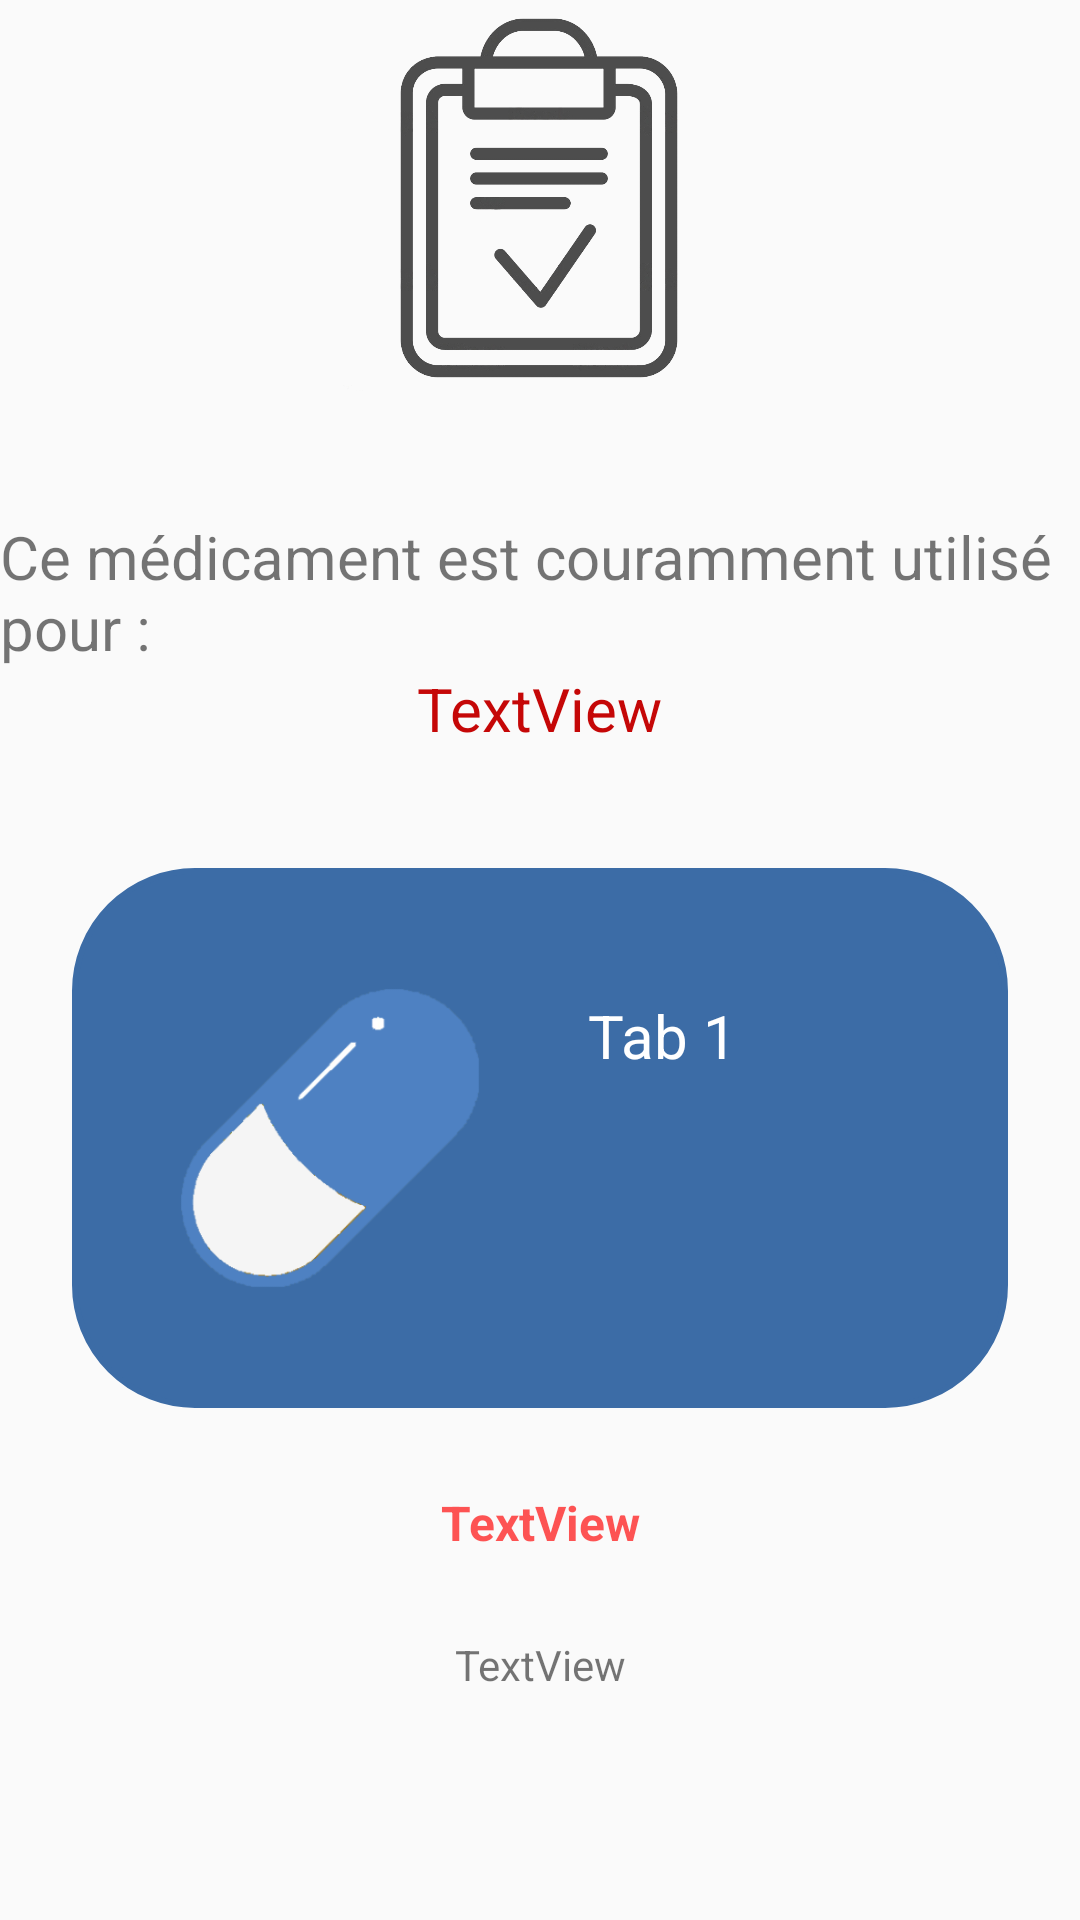

Named icons in this screenshot (1080 x 1920) and their centers, (x,y):
notice: (539,198)
